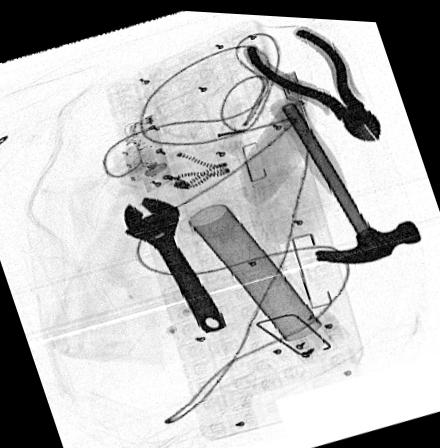Hammer: (264, 93, 420, 259)
Pliers: (243, 25, 379, 139)
Wrench: (119, 196, 228, 331)
